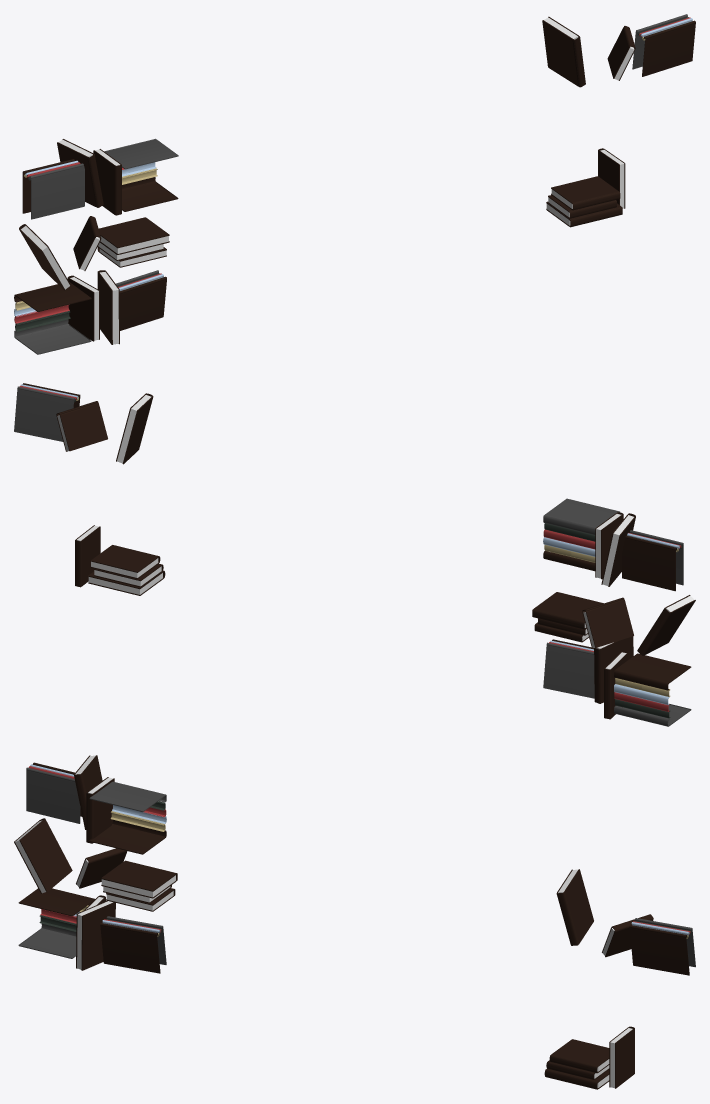
File: LivroEstante.fbx
3 renders of one model, top to bottom at view 1: azimuth 30°, elevation 25°; view 2: azimuth 150°, elevation 25°; view 3: azimuth 330°, elevation 25°, orthographic.
Parts seen in each view (by area): view 1: LivroPuzzle.006; view 2: LivroPuzzle.006; view 3: LivroPuzzle.006.
Part boxes in pixels (x1,y1,x2,y2): LivroPuzzle.006: (14, 14, 695, 354); LivroPuzzle.006: (14, 383, 695, 726); LivroPuzzle.006: (14, 755, 695, 1089).
Bounding box in the file's own units: 424 × 118 × 43.62.
